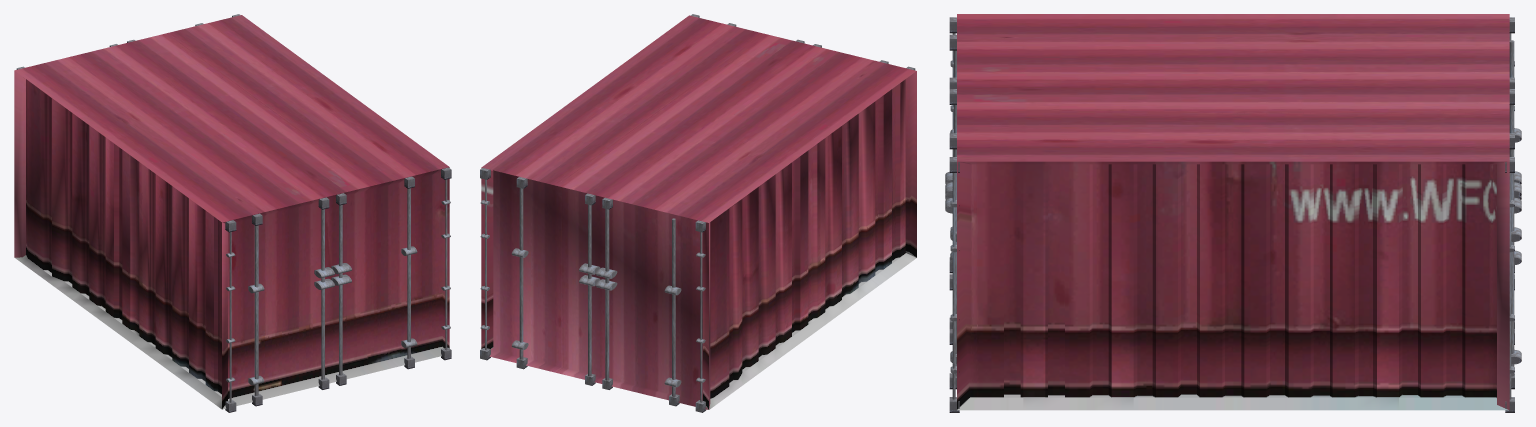
The model's file is container_red.obj.
The picture shows the model from 3 angles, left to right: view 1: azimuth 30°, elevation 25°; view 2: azimuth 150°, elevation 25°; view 3: azimuth 270°, elevation 25°; orthographic projection. The views are drawn at different scales.
Visible parts, largest first — view 1: container, pasted__pCylinder1 rohr_2, pasted__pasted__pCylinder1 pasted__group5 rohr_5, rohr_3, pasted__pCylinder1 rohr_4, pasted__pasted__pasted__pCylinder1 pasted__pasted__group5 pasted, pasted__pasted__pasted__pasted__pCylinder1 pasted__pasted__paste; view 2: container, pasted__rohr_3 group5, group5 pasted__pasted__pasted__pCylinder1 pasted__pasted__group5, group5 pasted__pasted__pCylinder1 pasted__rohr_2, group5 pasted__pasted__pCylinder1 pasted__rohr_4, group5 pasted__pasted__pasted__pasted__pasted__pCylinder1 pasted; view 3: container, pasted__pasted__pasted__pCylinder1 pasted__pasted__group5 pasted, group5 pasted__pasted__pasted__pCylinder1 pasted__pasted__group5, group5 pasted__pasted__pasted__pasted__pCylinder1 pasted__pasted.
Boxes of the visible parts, <box> form: container: <box>14,15,449,409</box>; pasted__pCylinder1 rohr_2: <box>254,225,258,395</box>; pasted__pasted__pCylinder1 pasted__group5 rohr_5: <box>407,188,410,358</box>; rohr_3: <box>321,209,324,379</box>; pasted__pCylinder1 rohr_4: <box>339,205,342,375</box>; pasted__pasted__pasted__pCylinder1 pasted__pasted__group5 pasted: <box>445,179,447,350</box>; pasted__pasted__pasted__pasted__pCylinder1 pasted__pasted__paste: <box>229,232,231,402</box>; container: <box>481,15,916,409</box>; pasted__rohr_3 group5: <box>605,209,609,380</box>; group5 pasted__pasted__pasted__pCylinder1 pasted__pasted__group5: <box>519,188,523,359</box>; group5 pasted__pasted__pCylinder1 pasted__rohr_2: <box>672,218,675,396</box>; group5 pasted__pasted__pCylinder1 pasted__rohr_4: <box>588,204,591,376</box>; group5 pasted__pasted__pasted__pasted__pasted__pCylinder1 pasted: <box>700,232,702,402</box>; container: <box>957,14,1509,410</box>; pasted__pasted__pasted__pCylinder1 pasted__pasted__group5 pasted: <box>952,173,955,399</box>; group5 pasted__pasted__pasted__pCylinder1 pasted__pasted__group5: <box>1509,149,1514,376</box>; group5 pasted__pasted__pasted__pasted__pCylinder1 pasted__pasted: <box>1509,173,1511,399</box>.
Size of the model in its own units: 13.93 by 11.08 by 22.99.
